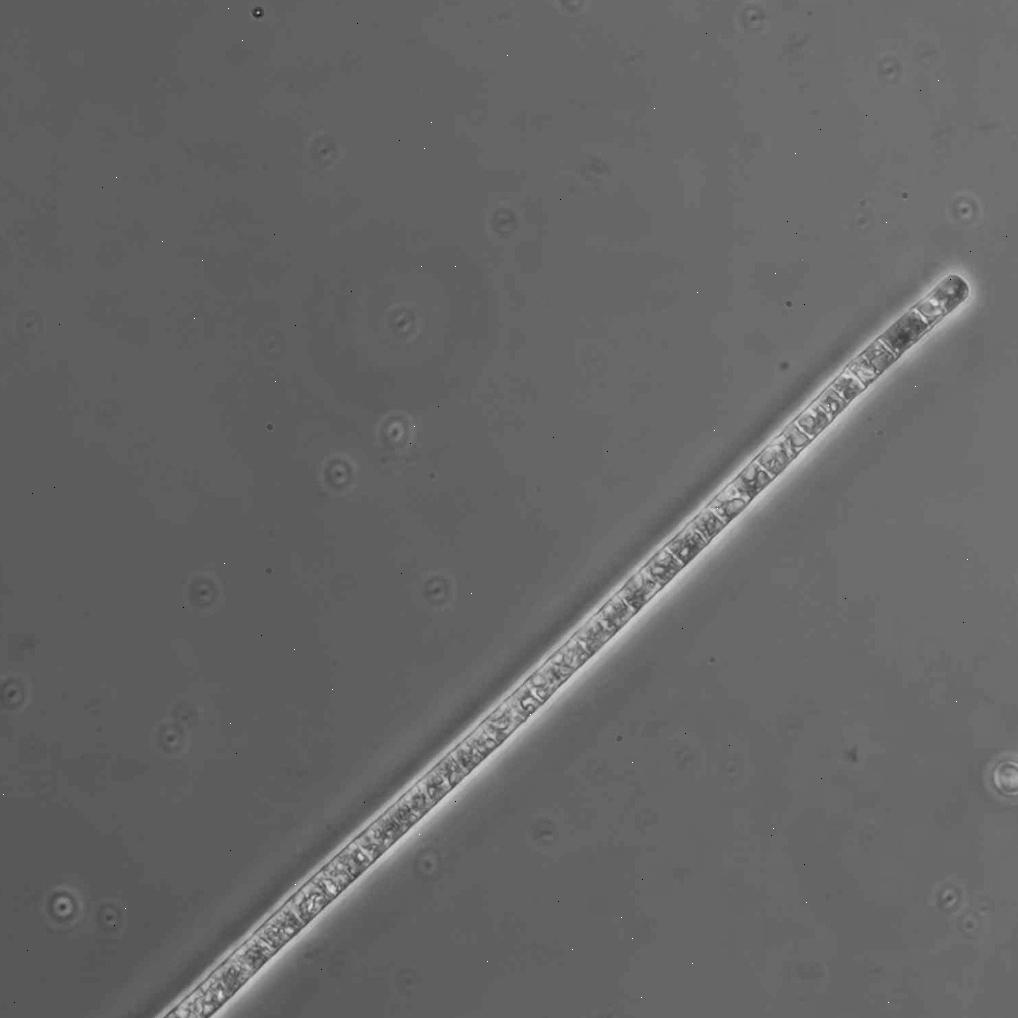trichodesmium_erythraeum: (155, 272, 967, 1018)
